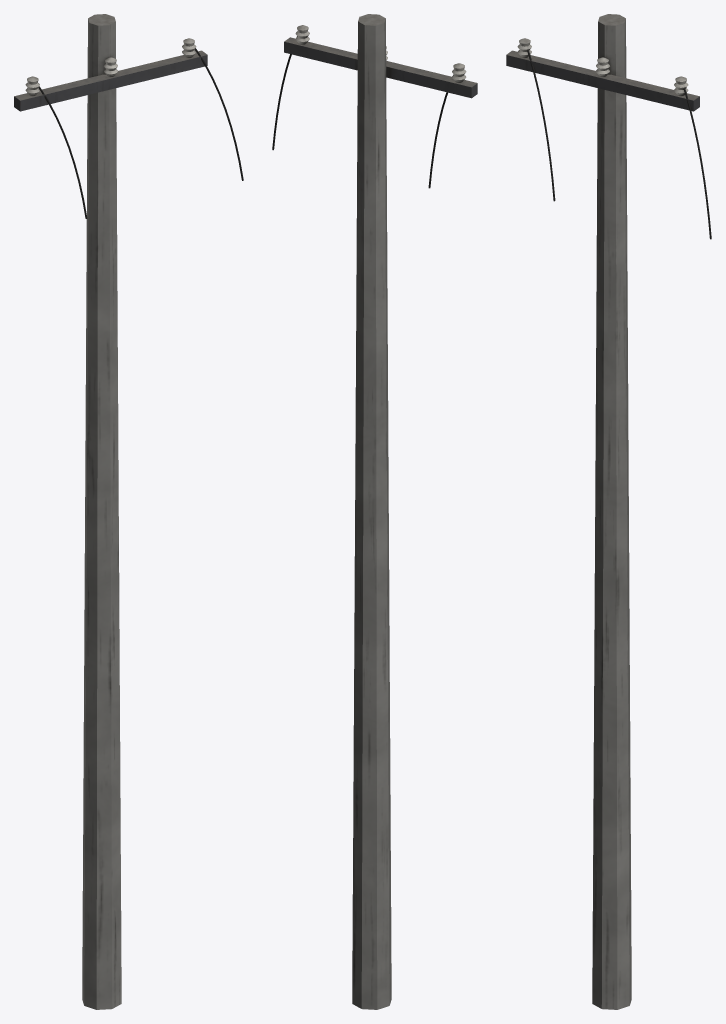
The model's file is SM_UtilityPole_Concrete.fbx.
3 views of the same model, side by side, from view 1: azimuth 30°, elevation 25°; view 2: azimuth 150°, elevation 25°; view 3: azimuth 330°, elevation 25° (orthographic).
Visible parts, largest first — view 1: SM_UtilityPole_Concrete; view 2: SM_UtilityPole_Concrete; view 3: SM_UtilityPole_Concrete.
Part boxes in pixels (x1,y1,x2,y2): SM_UtilityPole_Concrete: (14,14,243,1009); SM_UtilityPole_Concrete: (272,14,477,1009); SM_UtilityPole_Concrete: (506,14,711,1009).
Bounding box in the file's own units: 2.06 × 9 × 0.5276.
1 material, 1 textured.
